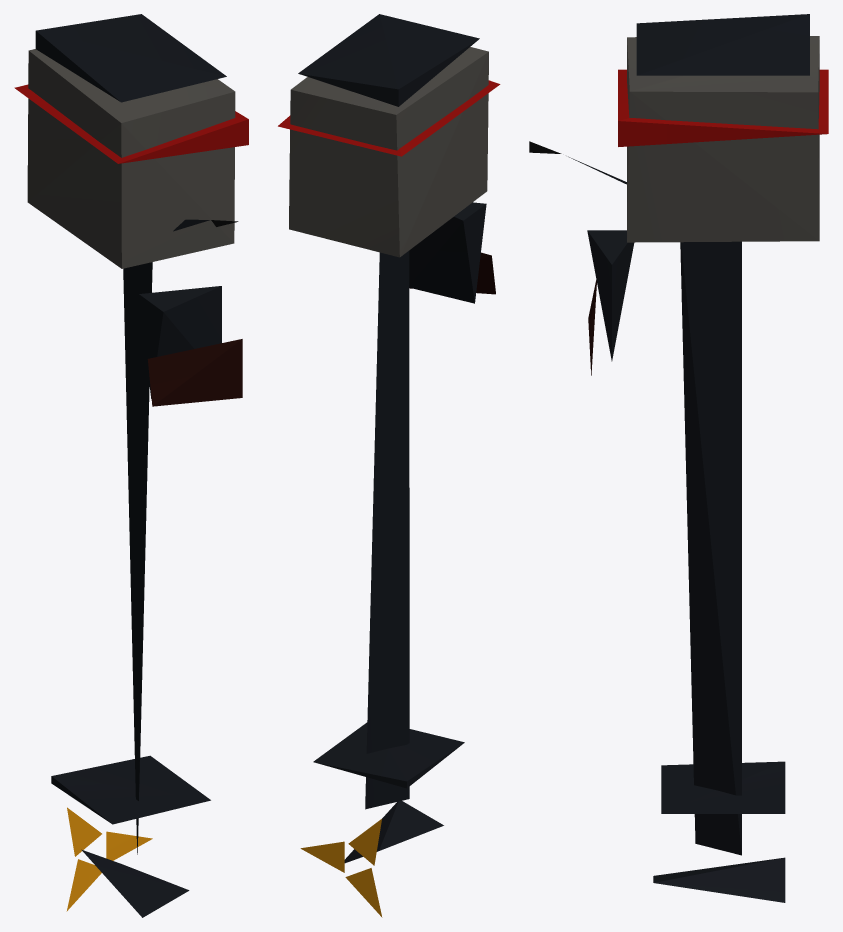
The model's file is tb_upg_outboard.three-web-toon.lod25.glb.
The picture shows the model from 3 angles, left to right: view 1: azimuth 30°, elevation 25°; view 2: azimuth 150°, elevation 25°; view 3: azimuth 270°, elevation 25°; orthographic projection. The views are drawn at different scales.
Visible parts, largest first — view 1: tb_upg_outboard_mesh_lod; view 2: tb_upg_outboard_mesh_lod; view 3: tb_upg_outboard_mesh_lod.
Boxes of the visible parts, x1,y1,x2,y2 form: tb_upg_outboard_mesh_lod: (14,14,248,917); tb_upg_outboard_mesh_lod: (278,14,500,917); tb_upg_outboard_mesh_lod: (529,14,828,902).
Size of the model in its own units: 0.37 by 2.39 by 0.725.
